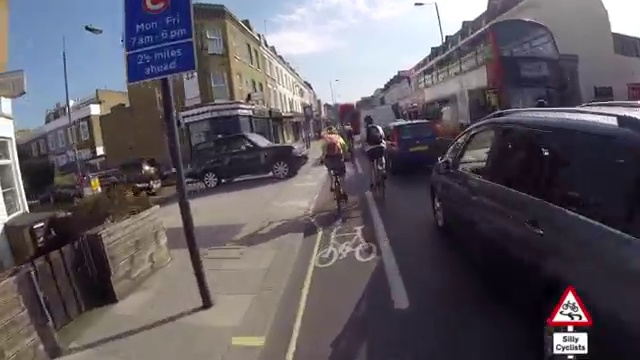cyclist_back: (319, 123, 356, 217), (359, 111, 395, 206)
